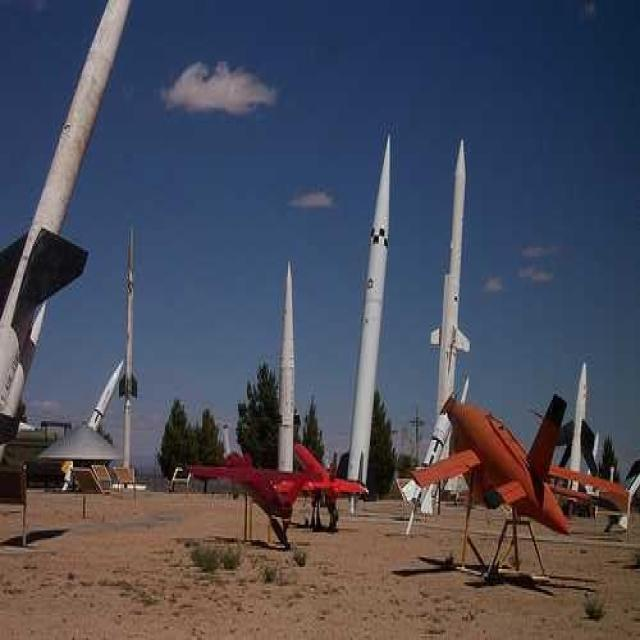missile: (0, 0, 132, 486), (340, 131, 394, 513), (432, 133, 469, 499), (281, 262, 298, 484), (566, 358, 590, 505), (123, 226, 136, 476)
